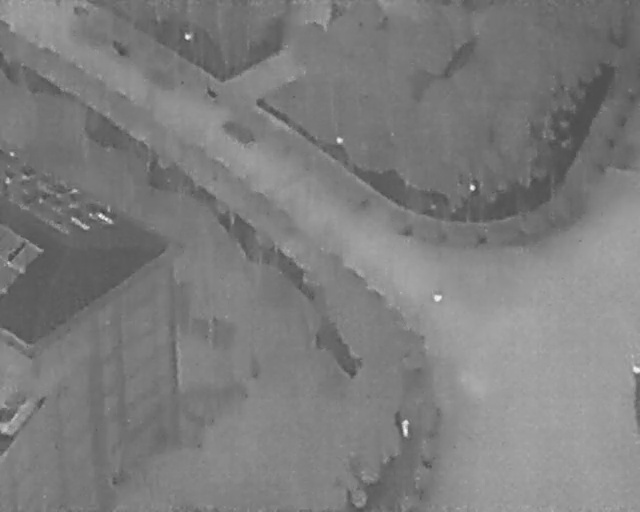Person: (402, 418, 409, 438)
